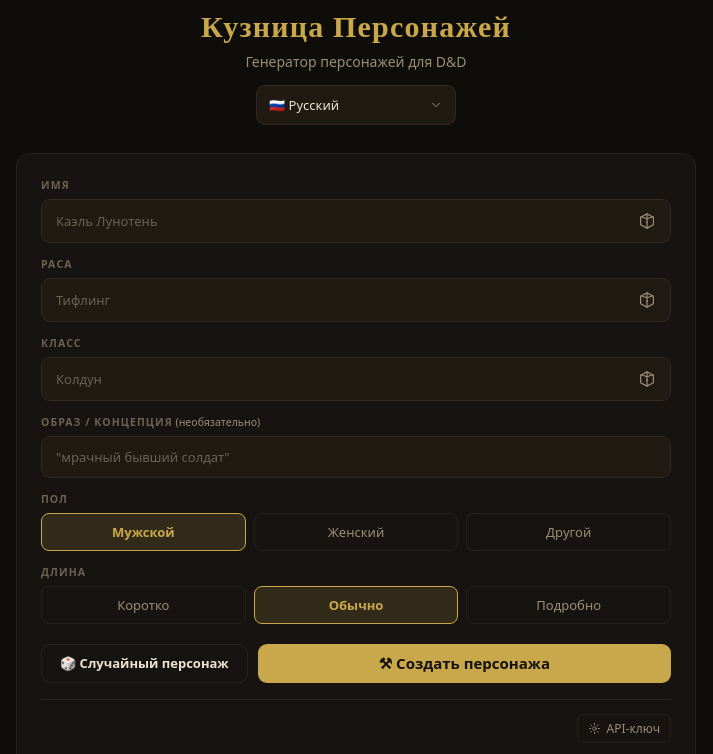
Test: character-forge › shows a clear button only when a field has text and empties it on click
// typing reveals a clear button that empties the field on click
Type "Kael" into the field with placeholder "Каэль Лунотень" at (340, 221), box [54,211,627,231]
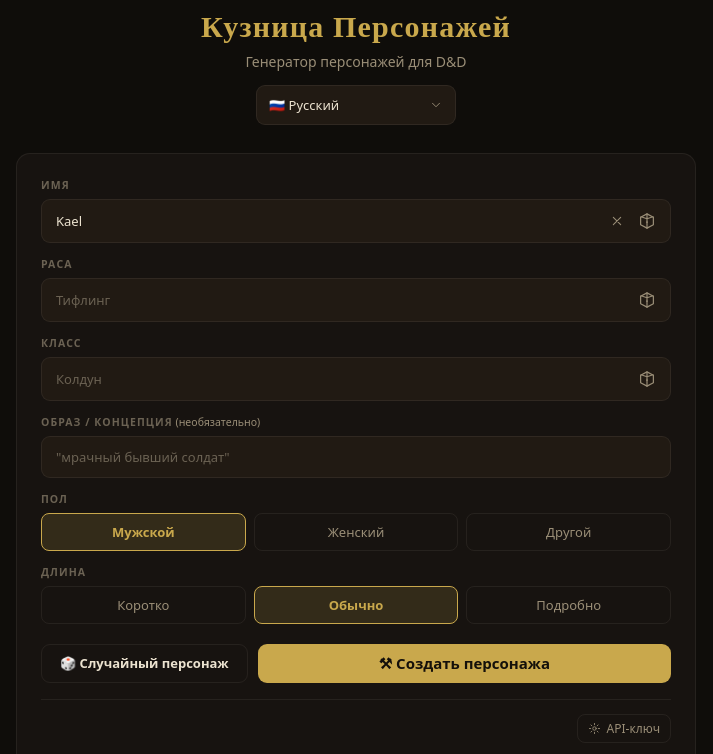
Click the button named "Очистить" at (617, 221), box [607,211,627,231]
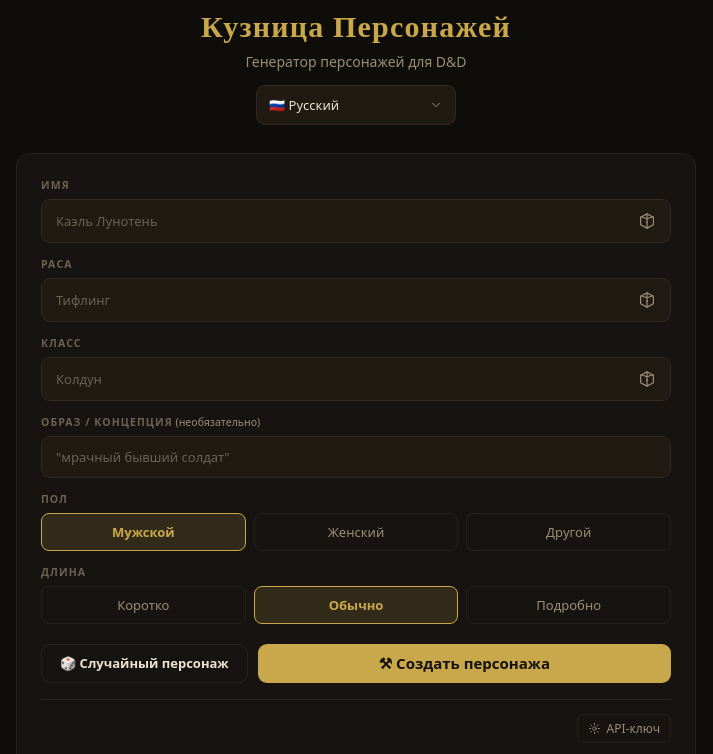
Result: the field with placeholder "Каэль Лунотень" is empty at [54,211,627,231]
// it's per-field — the race clear targets only the race input
Type "Tiefling" into the field with placeholder "Тифлинг" at (340, 300), box [54,290,627,310]
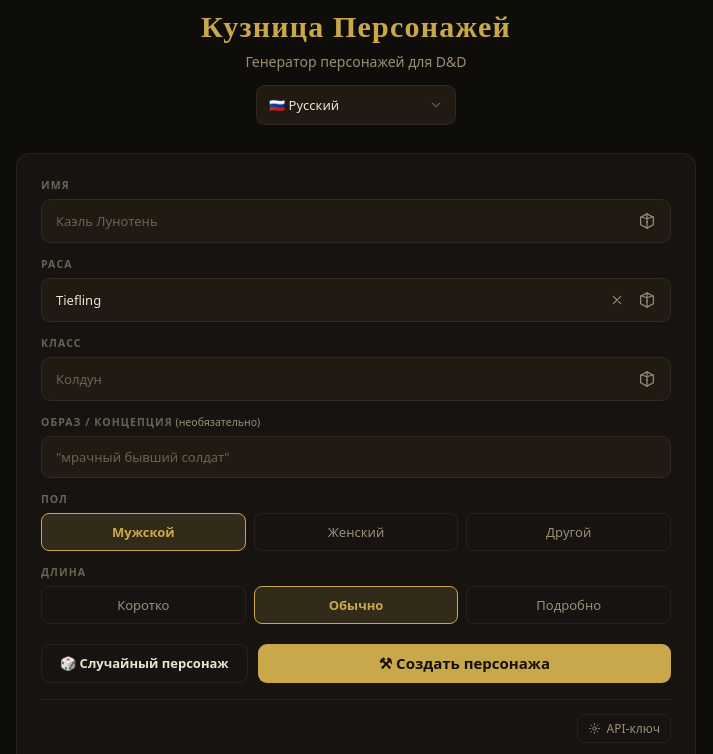
Click the button named "Очистить" at (617, 300), box [607,290,627,310]
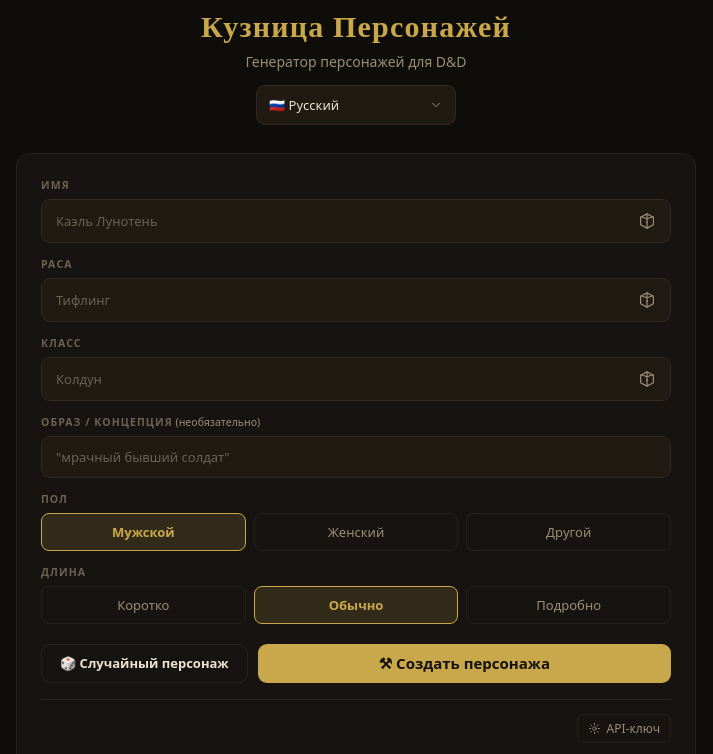
Result: the field with placeholder "Тифлинг" is empty at [54,290,627,310]
